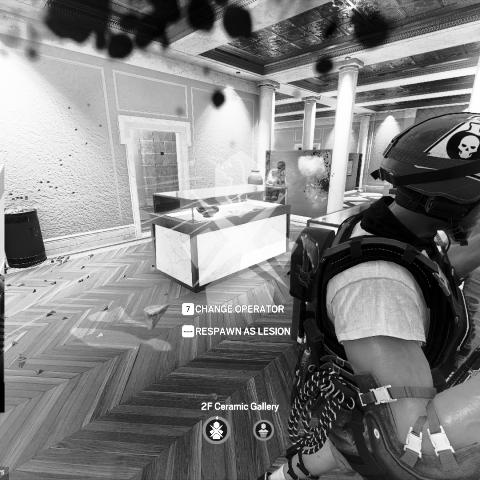Character: (260, 110, 480, 480), (264, 159, 290, 205)
Head: (380, 112, 480, 238), (276, 160, 285, 173)
